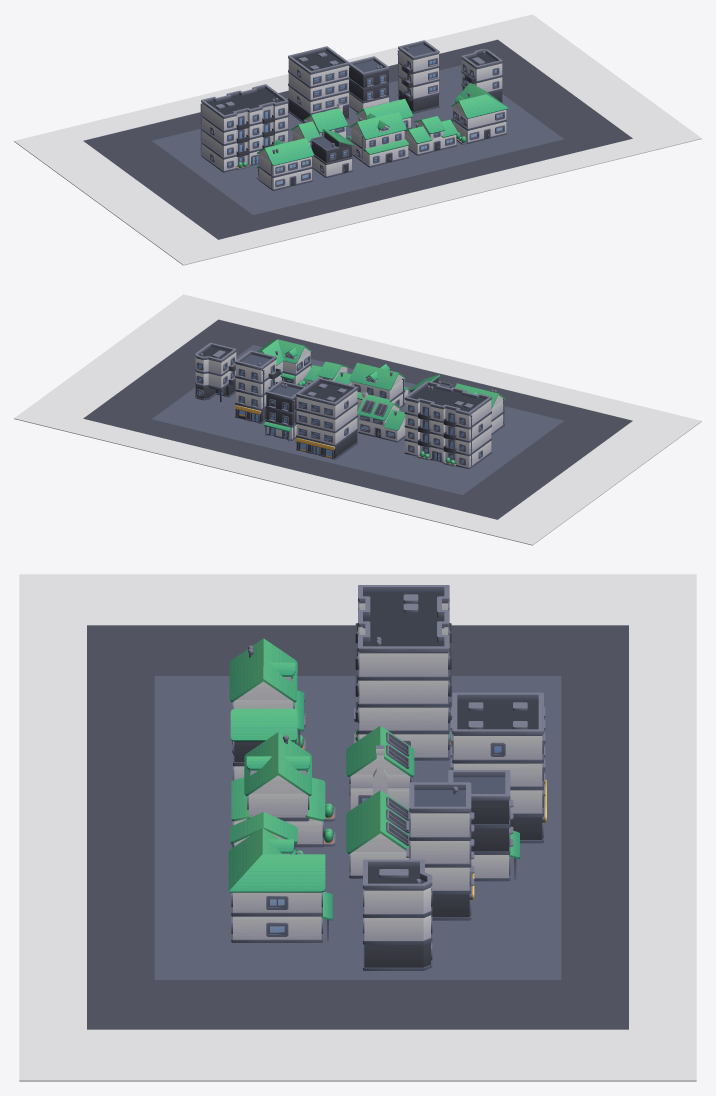
Rendered from assimpScene.glb.
3 views of the same model, one above another, from view 1: azimuth 30°, elevation 25°; view 2: azimuth 150°, elevation 25°; view 3: azimuth 270°, elevation 25° (orthographic). The views are drawn at different scales.
Parts seen in each view (by area): view 1: road-square, building-j, building-i, building-g, building-type-t, building-type-f, building-type-e, building-h, building-b, building-type-l, building-type-a, building-type-j (+1 smaller); view 2: road-square, building-j, building-i, building-g, building-b, building-type-t, building-type-j, building-h, building-type-f, building-type-e, building-type-a; view 3: road-square, building-j, building-i, building-type-f, building-g, building-b, building-type-t, building-h, building-type-e, building-type-j, building-type-h, building-type-l (+1 smaller).
Boxes of the visible parts, x1=… form: road-square: x1=14, y1=14, x2=701, y2=265; building-j: x1=200, y1=84, x2=288, y2=172; building-i: x1=287, y1=46, x2=349, y2=123; building-g: x1=397, y1=40, x2=439, y2=113; building-type-t: x1=346, y1=112, x2=408, y2=167; building-type-f: x1=450, y1=83, x2=508, y2=144; building-type-e: x1=256, y1=138, x2=313, y2=190; building-h: x1=349, y1=56, x2=389, y2=112; building-b: x1=461, y1=49, x2=502, y2=103; building-type-l: x1=310, y1=129, x2=353, y2=177; building-type-a: x1=404, y1=116, x2=457, y2=155; building-type-j: x1=290, y1=103, x2=347, y2=146; road-square: x1=14, y1=294, x2=701, y2=545; building-j: x1=404, y1=381, x2=491, y2=469; building-i: x1=295, y1=377, x2=357, y2=459; building-g: x1=234, y1=350, x2=280, y2=423; building-b: x1=195, y1=342, x2=236, y2=401; building-type-t: x1=349, y1=362, x2=408, y2=410; building-type-j: x1=357, y1=391, x2=405, y2=442; building-h: x1=264, y1=380, x2=305, y2=441; building-type-f: x1=257, y1=339, x2=312, y2=386; building-type-e: x1=455, y1=383, x2=506, y2=435; building-type-a: x1=305, y1=361, x2=351, y2=385; road-square: x1=19, y1=574, x2=696, y2=1081; building-j: x1=354, y1=585, x2=452, y2=760; building-i: x1=450, y1=692, x2=546, y2=843; building-type-f: x1=228, y1=827, x2=332, y2=942; building-g: x1=406, y1=782, x2=474, y2=920; building-b: x1=363, y1=859, x2=432, y2=970; building-type-t: x1=231, y1=732, x2=335, y2=847; building-h: x1=448, y1=770, x2=519, y2=881; building-type-e: x1=229, y1=638, x2=305, y2=752; building-type-j: x1=346, y1=725, x2=414, y2=810; building-type-h: x1=346, y1=790, x2=409, y2=878; building-type-l: x1=230, y1=708, x2=297, y2=780.
Size of the model in its own units: 16.19 by 1.69 by 9.16.
Materials: 13 (13 with a texture image).
